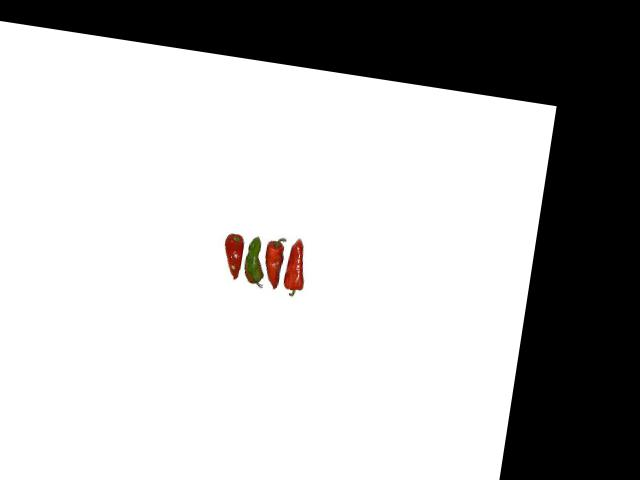bell_pepper: (214, 230, 247, 284)
